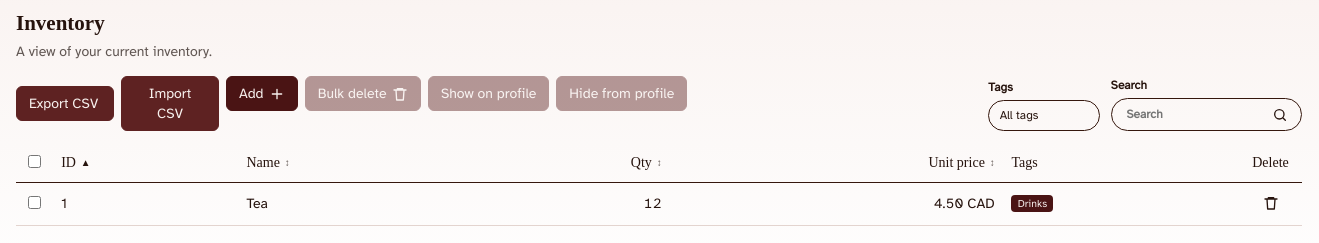
Test case: InventoryPage › only enables the visibility action that would change something
The width and height of the screenshot is (1319, 243).
Expected: the text "Tea" is shown, [238,182,479,225]
Click the checkbox named "Select Tea".
click(35, 202)  # box [28,196,41,208]
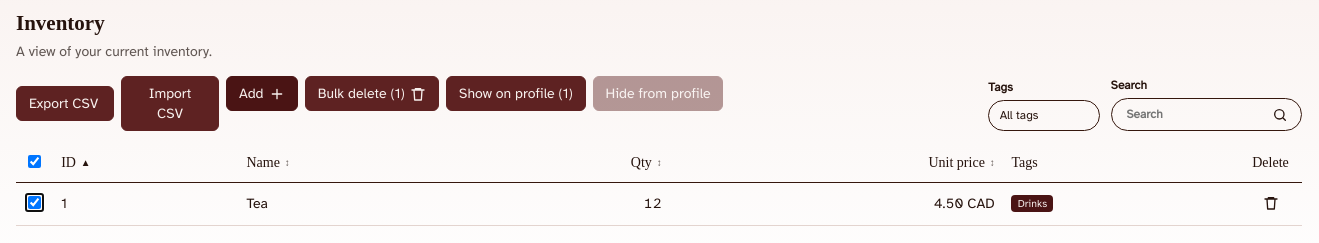
Expected: the button "Hide from profile" is disabled, [593,76,724,111]
Result: the button "Show on profile (1)" is enabled at [446,76,586,111]
